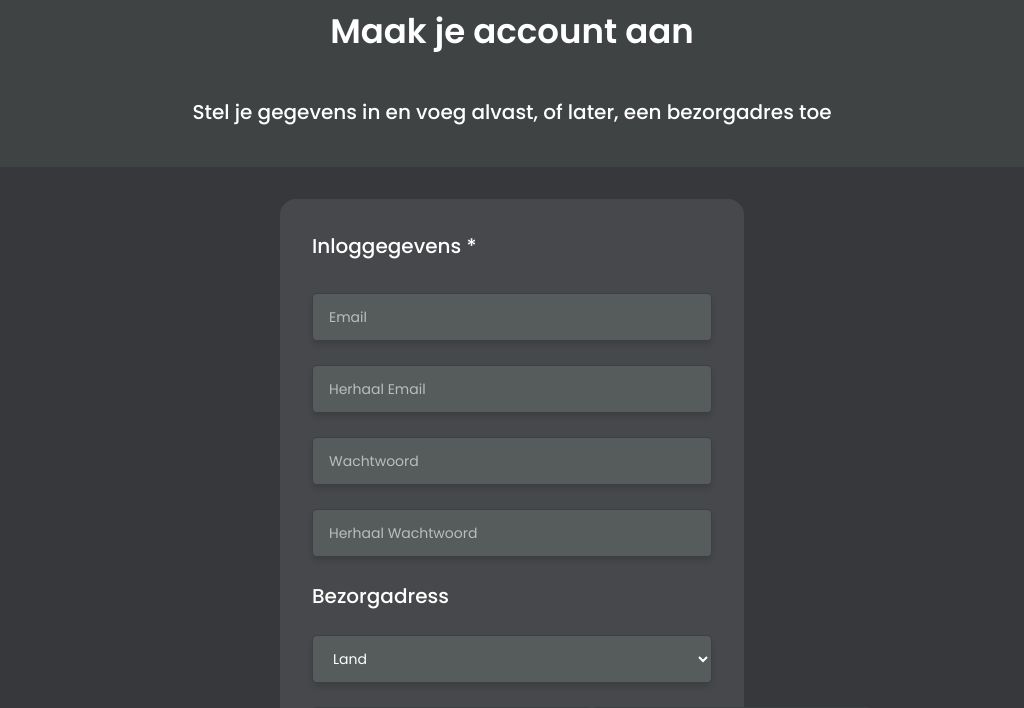
RegisterPage › toont 409 fout als email al in gebruik is
In the field with placeholder "Email": (512, 317) [312,293,712,341], type "jan@example.com"
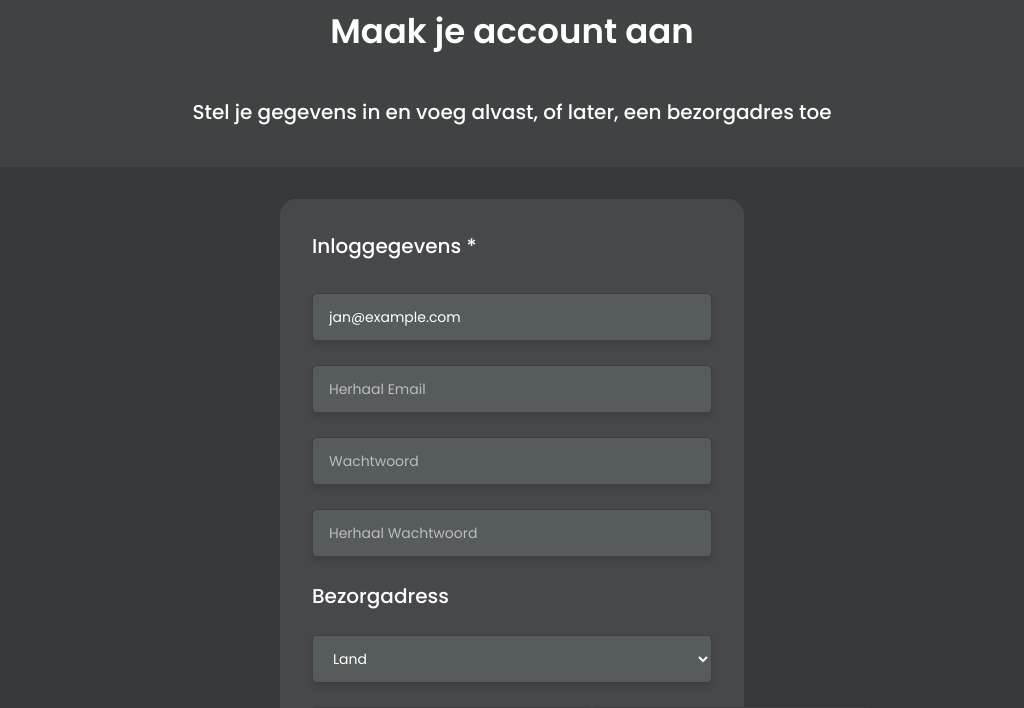
In the field with placeholder "Herhaal Email": (512, 389) [312,365,712,413], type "jan@example.com"
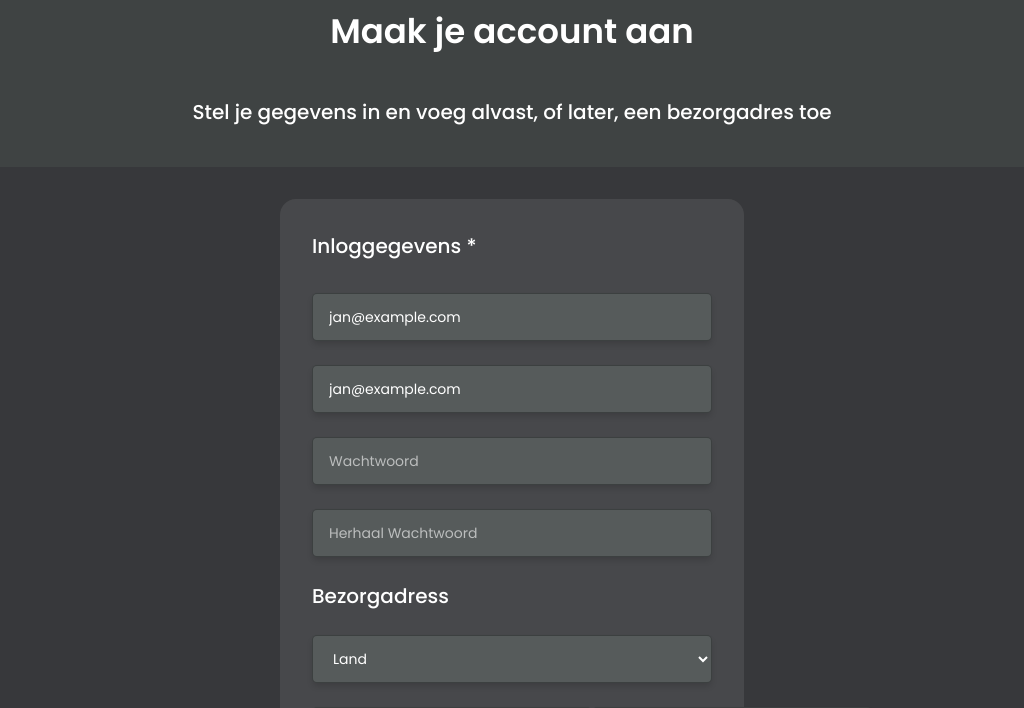
In the password field with placeholder "Wachtwoord": (512, 461) [312,437,712,485], type "wachtwoord123"
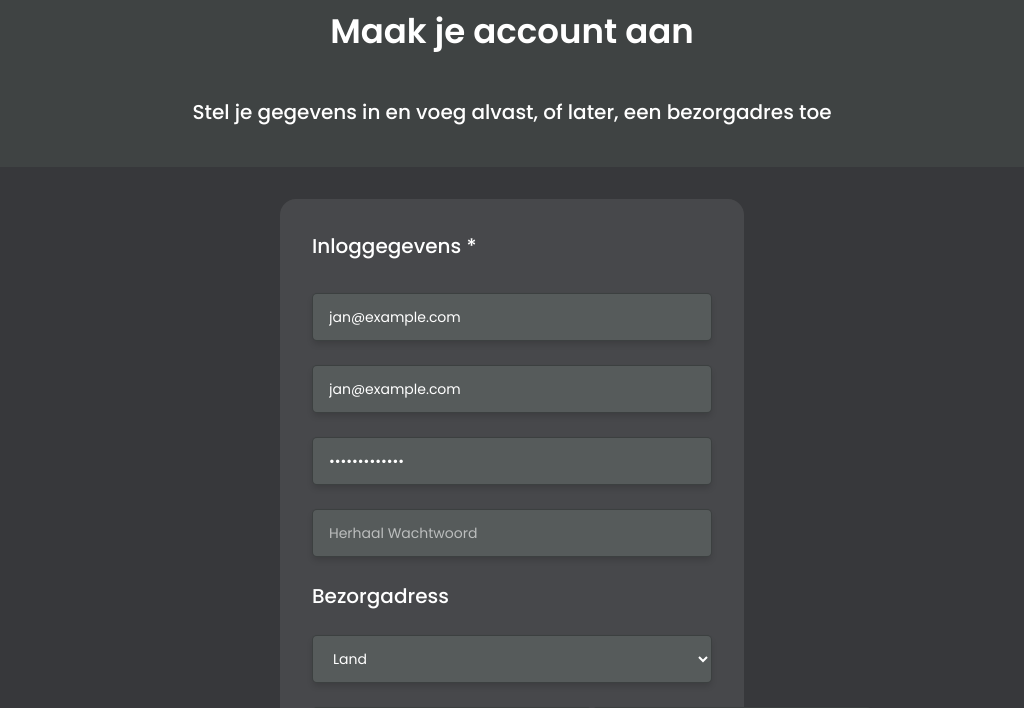
In the password field with placeholder "Herhaal Wachtwoord": (512, 533) [312,509,712,557], type "wachtwoord123"
(page scrolled)
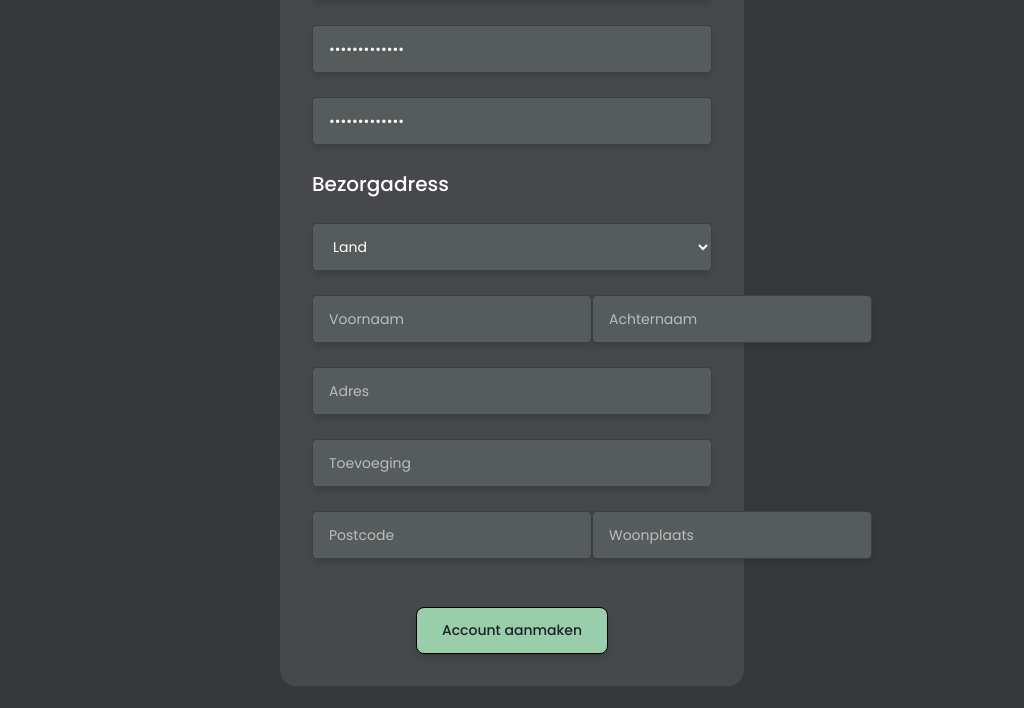
Click the button "Account aanmaken": (512, 630) [416,607,608,654]
(page scrolled)
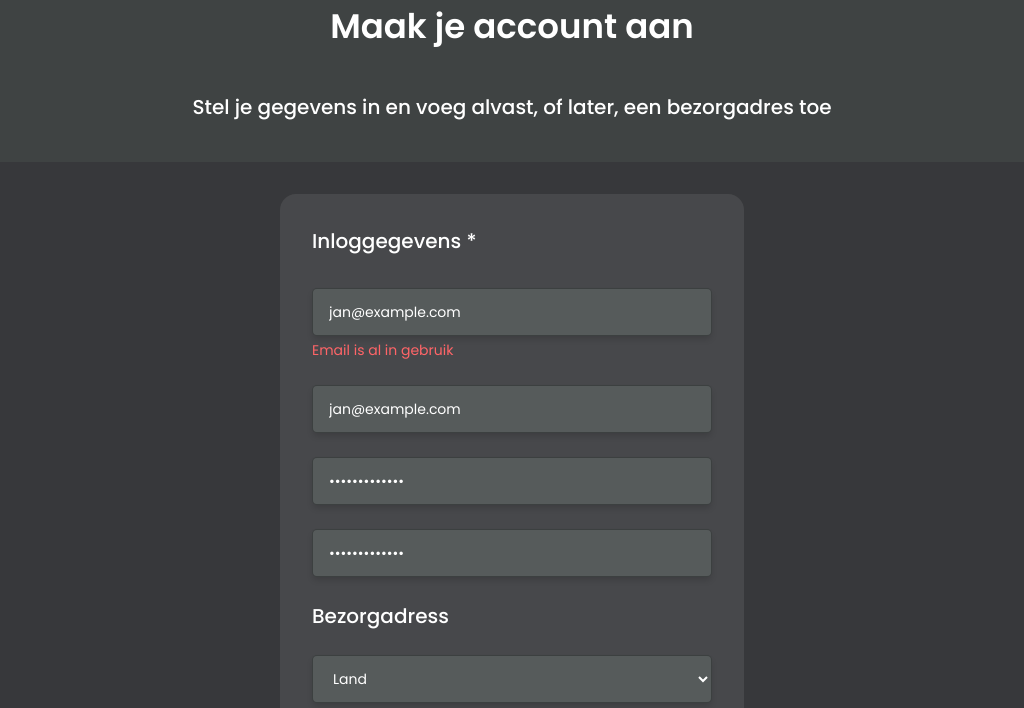
Expected: the text "Email is al in gebruik" is shown, [312,340,453,360]
